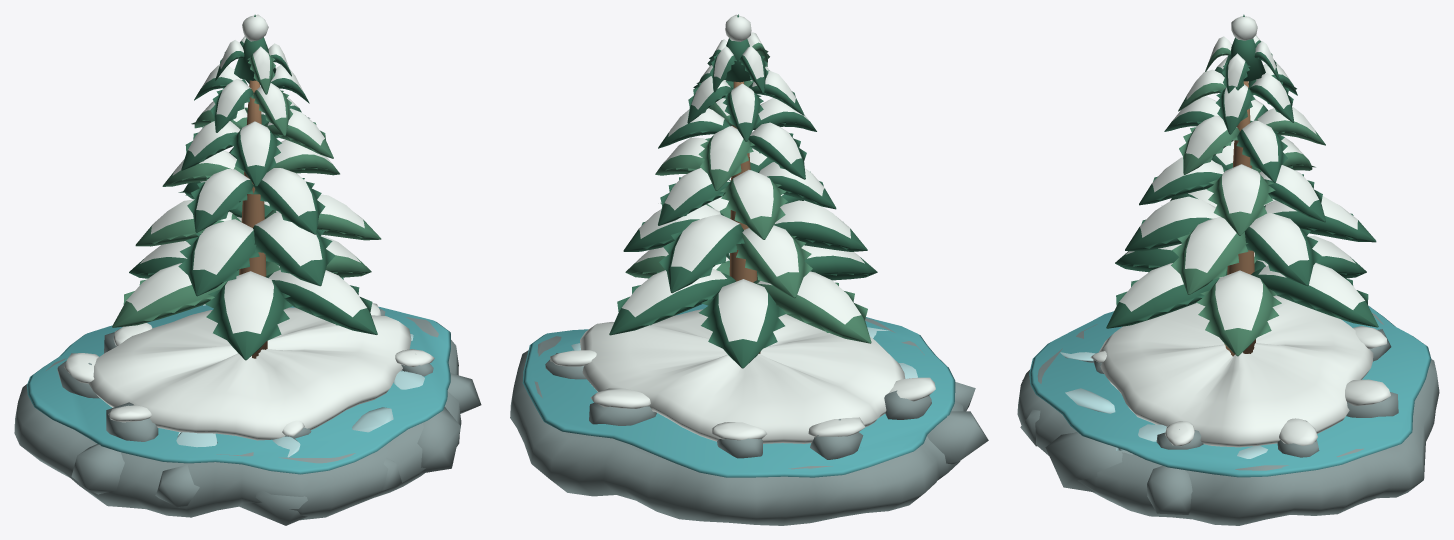
Rendered from snowy-island-v2.glb.
3 renders of one model, left to right at view 1: azimuth 30°, elevation 25°; view 2: azimuth 150°, elevation 25°; view 3: azimuth 270°, elevation 25°, orthographic. The views are drawn at different scales.
Visible parts, largest first — view 1: Snowy | Snow | soft, Snowy | Rock | blue grey, Snowy | Sea | icy turquoise, Snowy | Pine | needles, Snowy | Pine | sunlit needles, Snowy | Ice | pale blue, Snowy | Pine | bark; view 2: Snowy | Snow | soft, Snowy | Rock | blue grey, Snowy | Pine | needles, Snowy | Sea | icy turquoise, Snowy | Pine | sunlit needles, Snowy | Pine | bark; view 3: Snowy | Snow | soft, Snowy | Rock | blue grey, Snowy | Sea | icy turquoise, Snowy | Pine | needles, Snowy | Pine | sunlit needles, Snowy | Ice | pale blue, Snowy | Pine | bark.
Part boxes in pixels (x1,y1,x2,y2): Snowy | Snow | soft: (64,14,434,440); Snowy | Rock | blue grey: (14,308,481,525); Snowy | Sea | icy turquoise: (26,305,450,474); Snowy | Pine | needles: (129,14,377,360); Snowy | Pine | sunlit needles: (112,54,381,327); Snowy | Ice | pale blue: (176,334,424,457); Snowy | Pine | bark: (239,80,267,358); Snowy | Snow | soft: (550,14,935,443); Snowy | Rock | blue grey: (510,318,988,525); Snowy | Pine | needles: (609,14,877,368); Snowy | Sea | icy turquoise: (522,304,955,477); Snowy | Pine | sunlit needles: (625,42,871,343); Snowy | Pine | bark: (729,81,760,353); Snowy | Snow | soft: (1090,16,1390,447); Snowy | Rock | blue grey: (1017,313,1439,525); Snowy | Sea | icy turquoise: (1029,305,1431,477); Snowy | Pine | needles: (1106,14,1378,328); Snowy | Pine | sunlit needles: (1171,47,1325,356); Snowy | Ice | pale blue: (1060,352,1267,458); Snowy | Pine | bark: (1224,81,1255,356).
Bounding box in the file's own units: 1.64 × 1.66 × 1.44.
